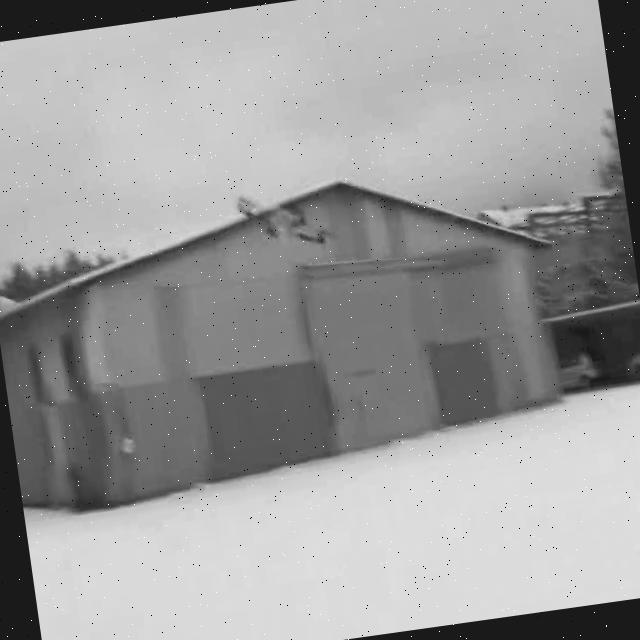drone: (202, 154, 356, 290)
